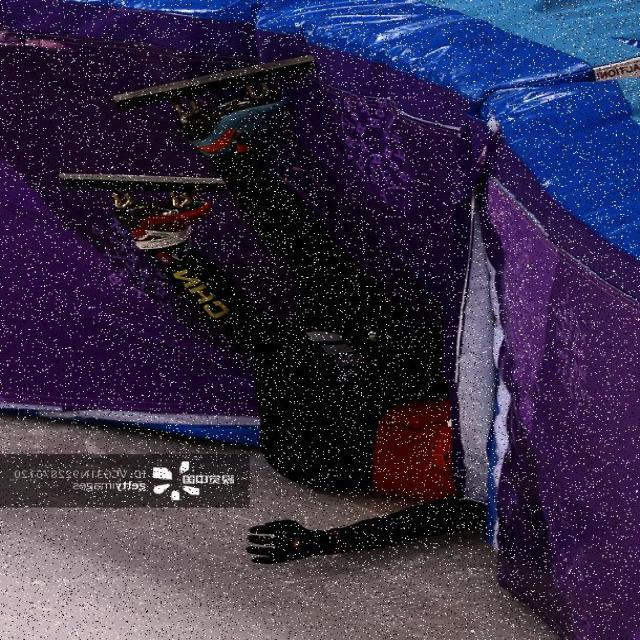fall: (130, 114, 478, 559)
